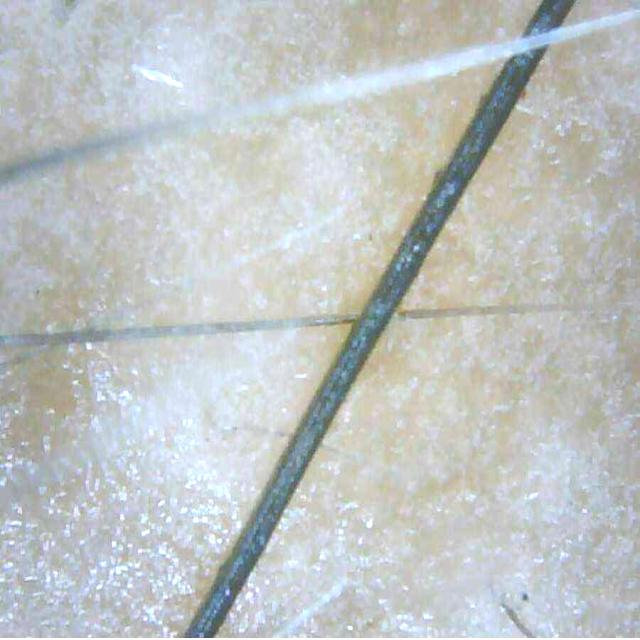o: (0, 62, 502, 636), (219, 21, 640, 637), (0, 0, 538, 165)
